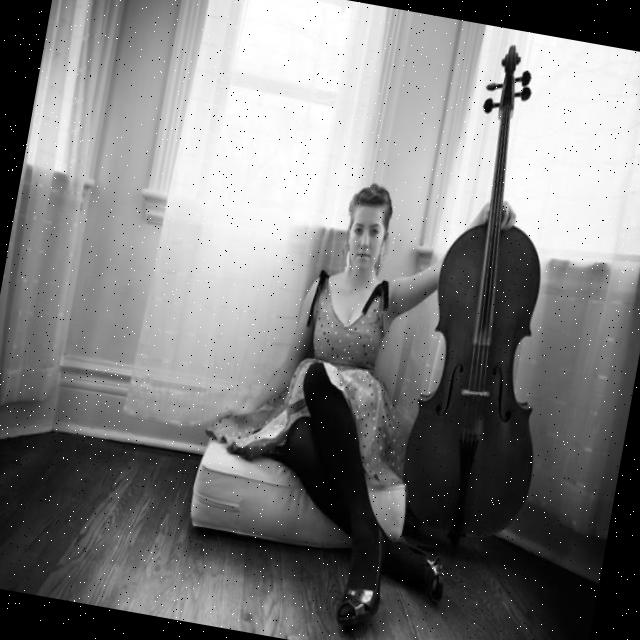cello: (391, 36, 608, 543)
